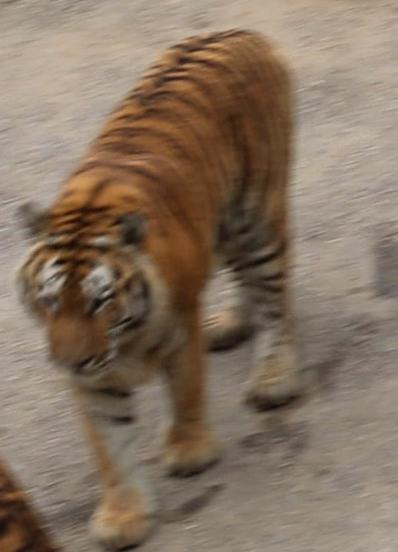tiger: (17, 30, 301, 549)
